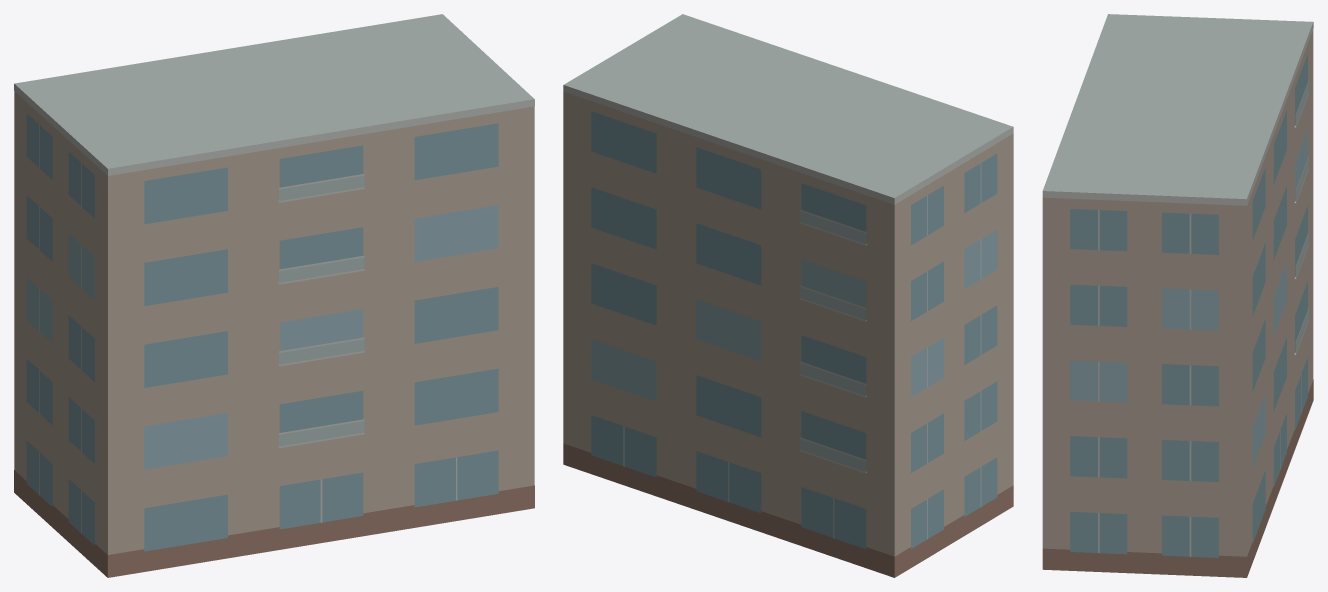
File: survey-upis-32944116.glb
The picture shows the model from 3 angles, left to right: view 1: azimuth 30°, elevation 25°; view 2: azimuth 150°, elevation 25°; view 3: azimuth 270°, elevation 25°; orthographic projection. The views are drawn at different scales.
Parts seen in each view (by area): view 1: survey-upis-32944116.tmp; view 2: survey-upis-32944116.tmp; view 3: survey-upis-32944116.tmp.
Boxes of the visible parts, box(x1,y1,x2,y2) form: survey-upis-32944116.tmp: box(14, 14, 534, 577); survey-upis-32944116.tmp: box(563, 14, 1013, 577); survey-upis-32944116.tmp: box(1042, 14, 1313, 577).
Size of the model in its own units: 14.59 by 13.9 by 9.02.
